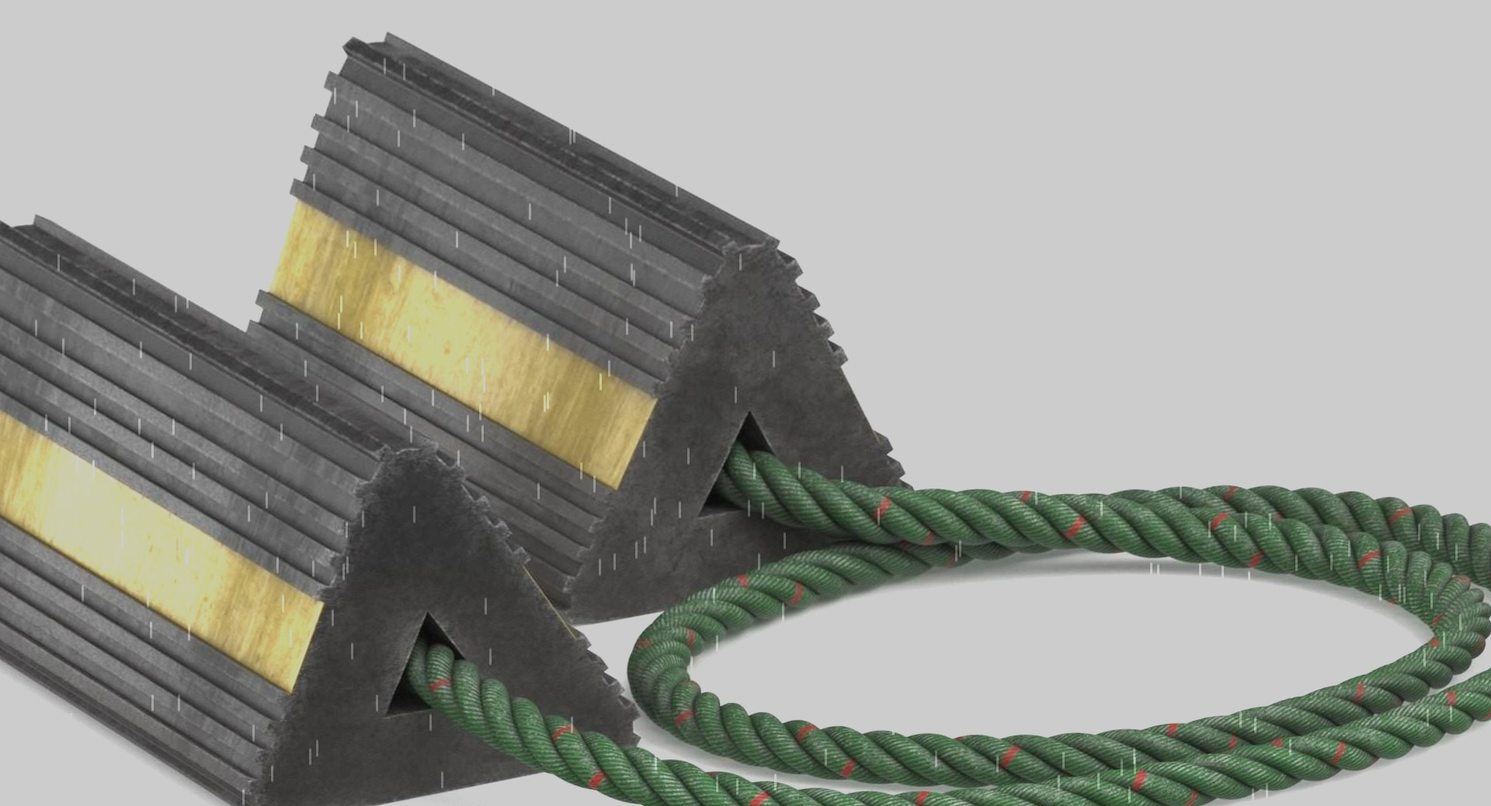chock: (198, 15, 973, 644), (0, 179, 642, 806)
